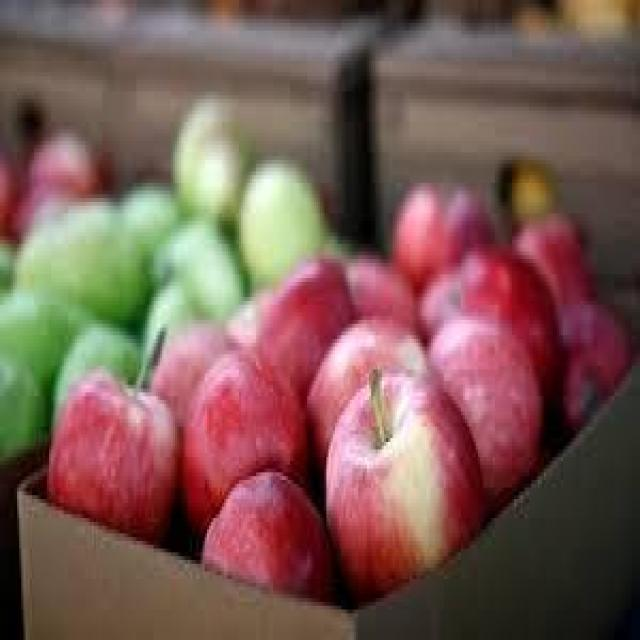maca: (45, 160, 631, 602)
